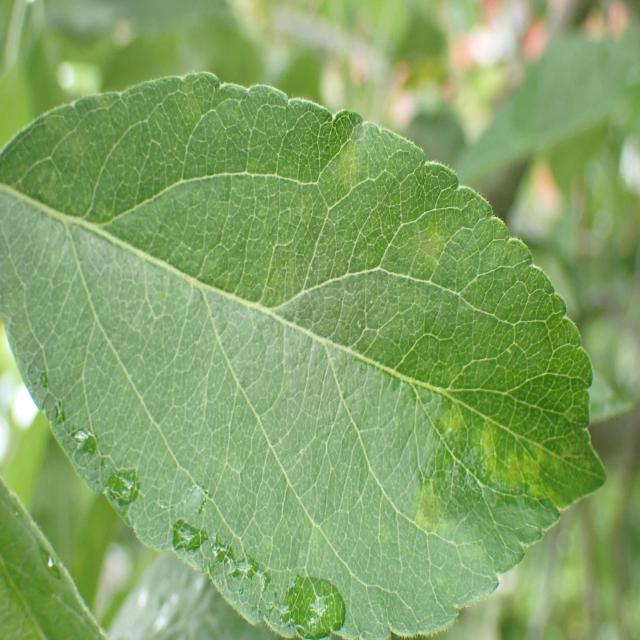scab: (215, 94, 612, 558)
